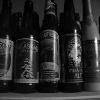beer: (13, 1, 41, 94)
